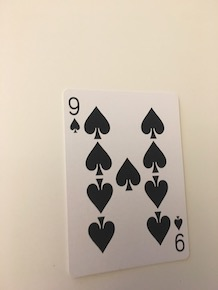NineOfSpades: (59, 84, 192, 278)
